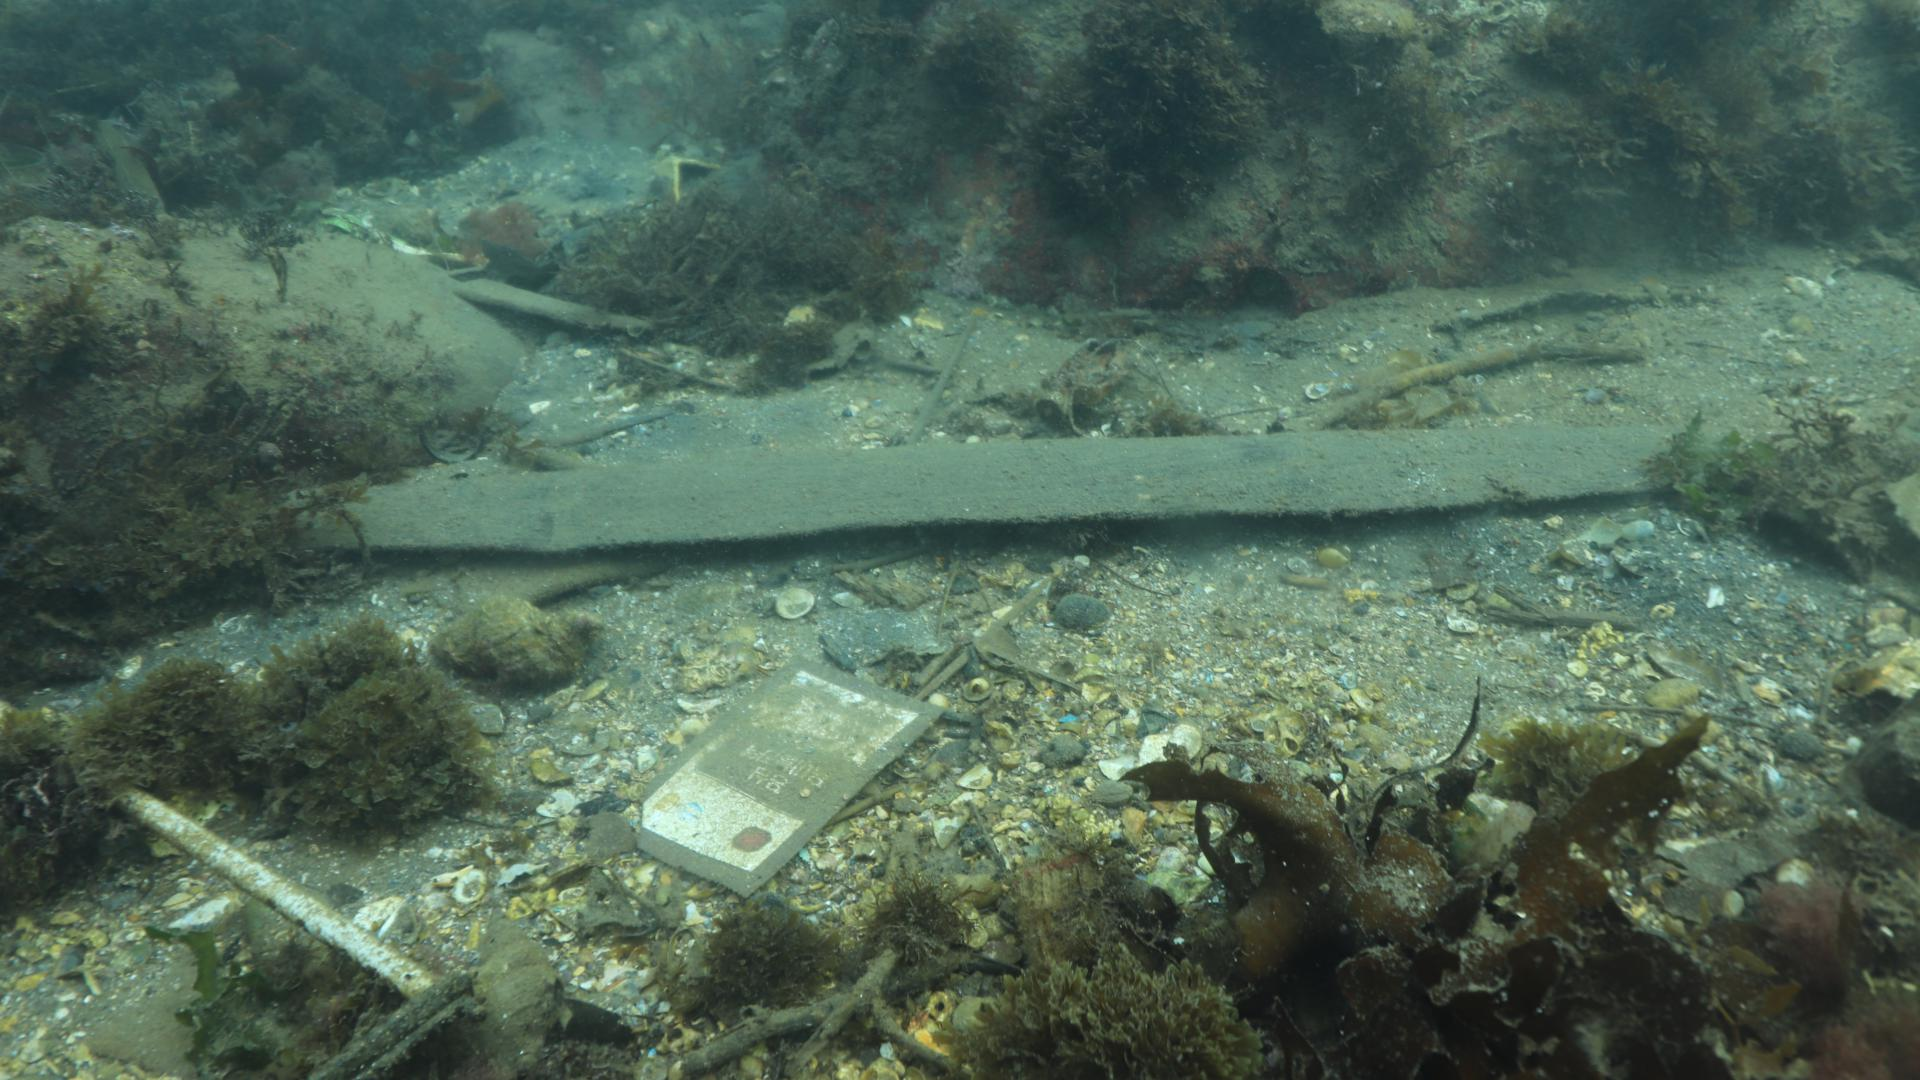wood: (284, 421, 1730, 556)
